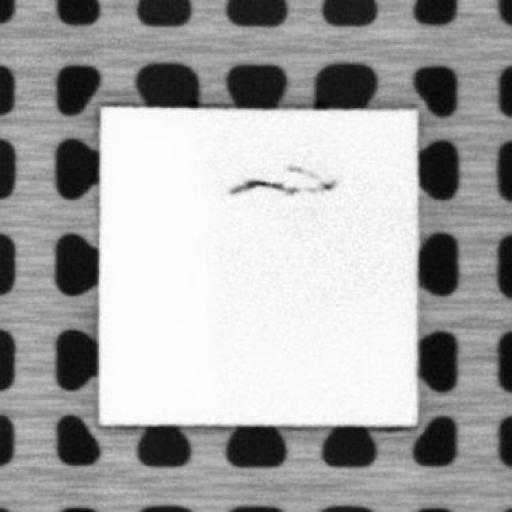DIE_INK: (221, 161, 337, 197)
